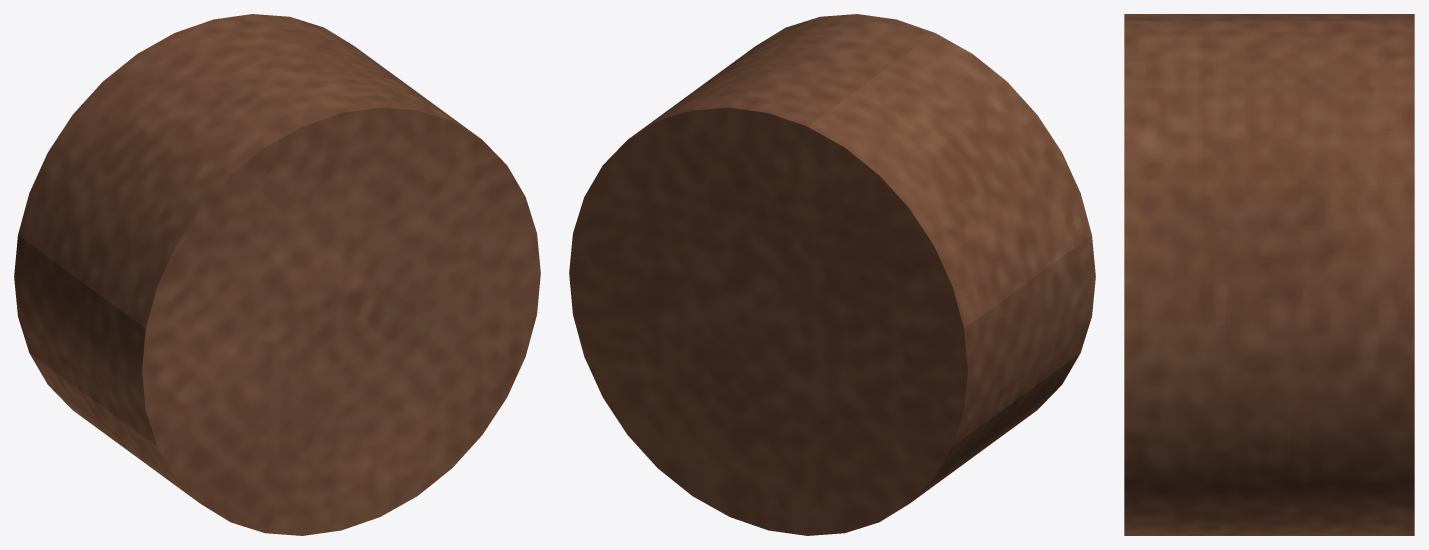
Rendered from body__top_collar.glb.
The picture shows the model from 3 angles, left to right: view 1: azimuth 30°, elevation 25°; view 2: azimuth 150°, elevation 25°; view 3: azimuth 270°, elevation 25°; orthographic projection. The views are drawn at different scales.
Parts seen in each view (by area): view 1: geometry_0; view 2: geometry_0; view 3: geometry_0.
Part boxes in pixels (bbox=[...]): geometry_0: bbox=[14, 14, 540, 535]; geometry_0: bbox=[569, 14, 1095, 535]; geometry_0: bbox=[1124, 14, 1414, 535].
Bounding box in the file's own units: 0.072 × 0.072 × 0.04.
1 material, 1 textured.
